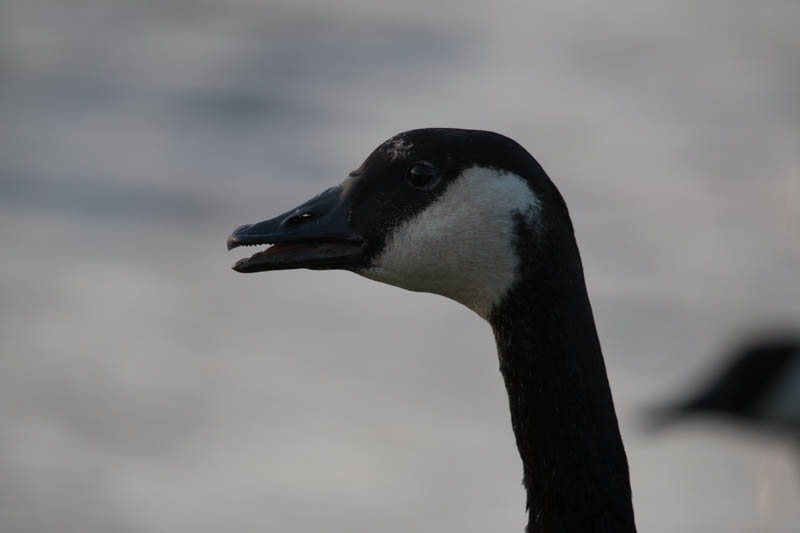goose-head: (228, 126, 579, 329)
